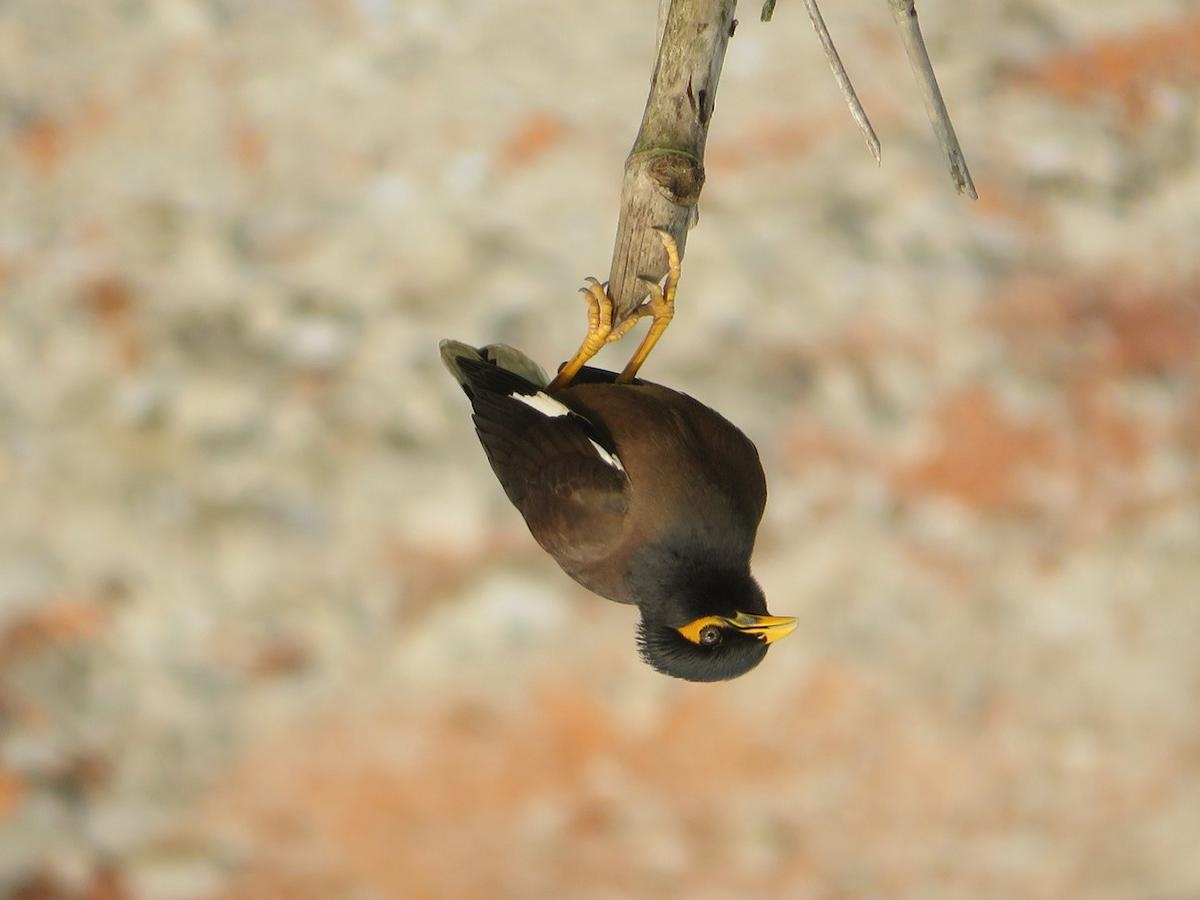myna: (454, 250, 810, 704)
